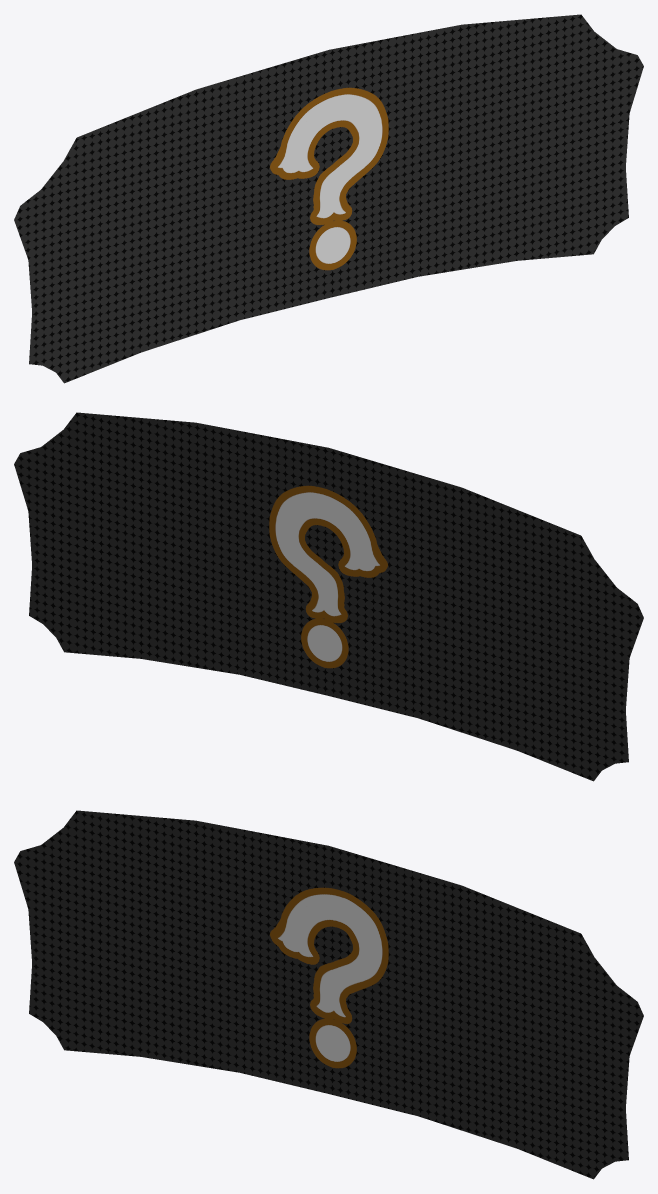
Rendered from SM_ColorSwitchGuide02.fbx.
The picture shows the model from 3 angles, top to bottom: view 1: azimuth 30°, elevation 25°; view 2: azimuth 150°, elevation 25°; view 3: azimuth 330°, elevation 25°; orthographic projection.
Visible parts, largest first — view 1: SM_ColorSwitchGuide02; view 2: SM_ColorSwitchGuide02; view 3: SM_ColorSwitchGuide02.
Part boxes in pixels (x1,y1,x2,y2): SM_ColorSwitchGuide02: [14, 14, 643, 383]; SM_ColorSwitchGuide02: [14, 412, 643, 781]; SM_ColorSwitchGuide02: [14, 810, 643, 1179].
Bounding box in the file's own units: 1053 × 430 × 0.000283.
